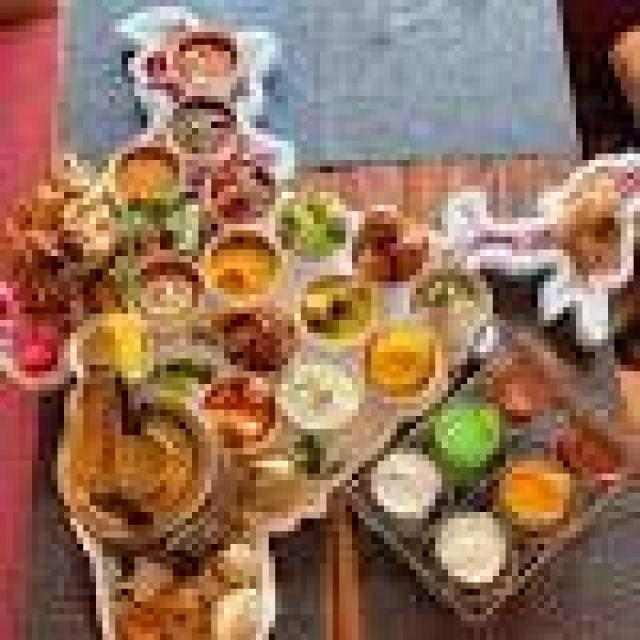curd: (367, 445, 453, 523)
dal: (420, 506, 519, 593), (358, 314, 455, 402), (482, 454, 581, 532)
pickle: (136, 32, 255, 102), (346, 212, 435, 286)
raita: (367, 444, 452, 527)
sweet: (186, 125, 287, 233), (291, 268, 387, 353), (359, 316, 453, 402), (196, 231, 294, 313), (111, 142, 187, 206), (136, 262, 206, 325)
